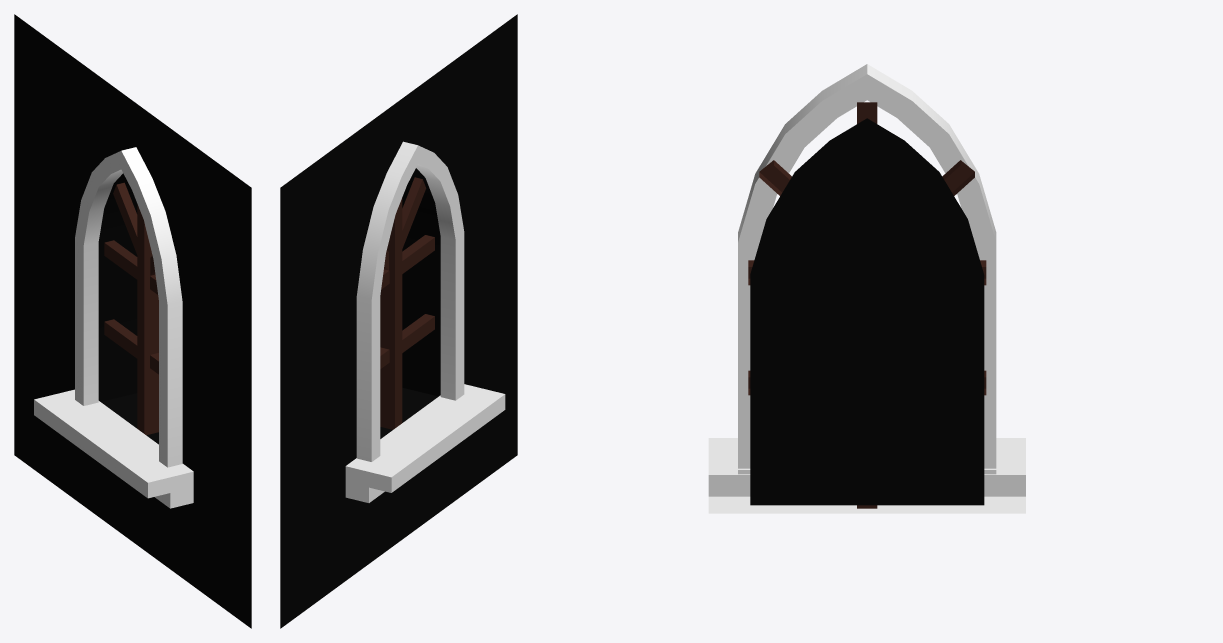
The model's file is standard_window_5.FBX.
3 views of the same model, side by side, from view 1: azimuth 30°, elevation 25°; view 2: azimuth 150°, elevation 25°; view 3: azimuth 270°, elevation 25° (orthographic). The views are drawn at different scales.
Parts seen in each view (by area): view 1: standard_window_5; view 2: standard_window_5; view 3: standard_window_5.
Boxes of the visible parts, x1,y1,x2,y2 form: standard_window_5: (14, 14, 251, 628); standard_window_5: (280, 14, 517, 628); standard_window_5: (708, 64, 1025, 513).
Size of the model in its own units: 60.72 by 281 by 275.
